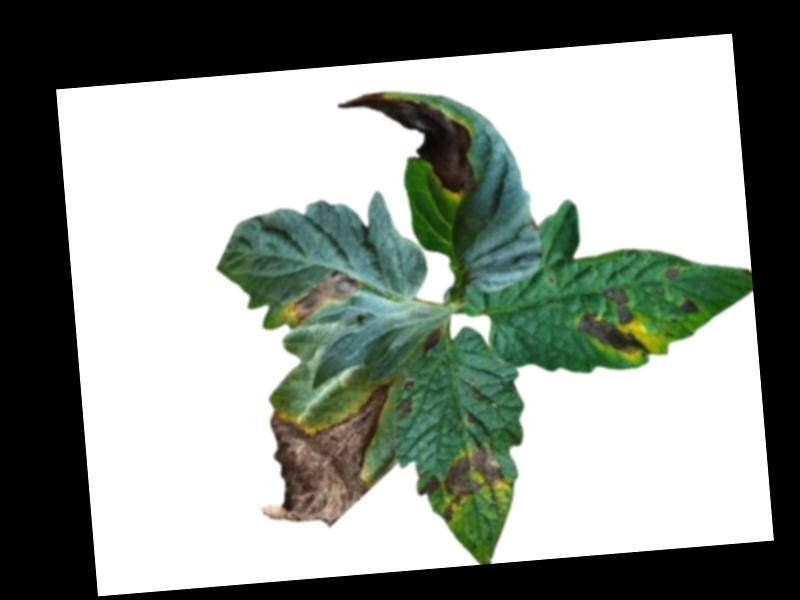Early_blight: (252, 376, 402, 532), (334, 82, 477, 202), (572, 281, 648, 361), (436, 442, 506, 522), (277, 268, 360, 329), (392, 376, 416, 422), (418, 326, 444, 356), (678, 293, 703, 318), (417, 471, 440, 498), (662, 266, 678, 279)
